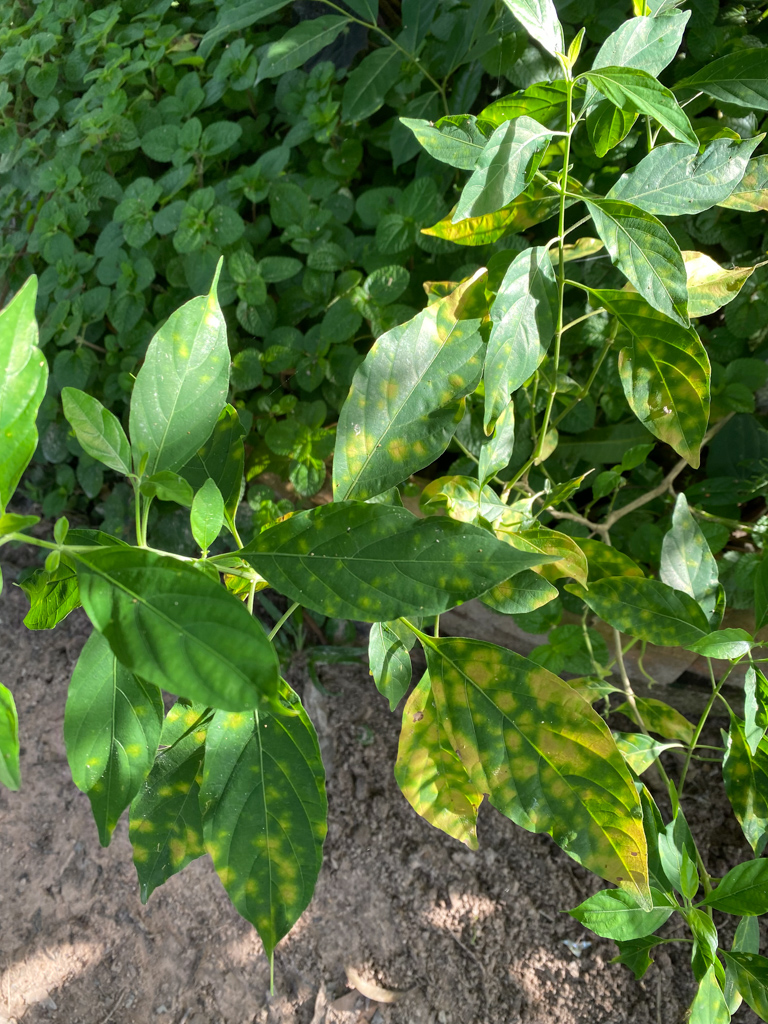Pepper yellow leaf: (424, 628, 664, 917), (243, 498, 554, 625), (204, 661, 328, 965), (331, 282, 487, 493), (590, 282, 714, 469), (128, 694, 224, 911), (392, 668, 494, 851), (418, 166, 578, 252), (497, 503, 590, 589), (723, 712, 766, 853), (620, 690, 694, 744)
